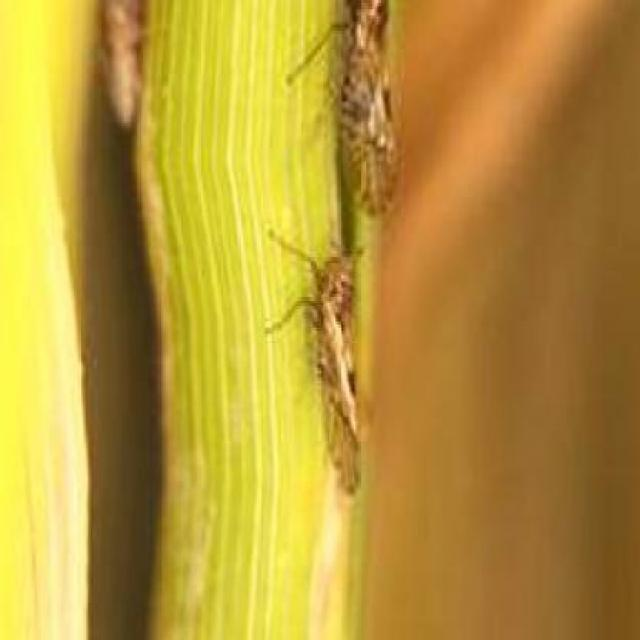brown-planthopper: (308, 245, 362, 497), (338, 0, 394, 214), (97, 0, 138, 128)
